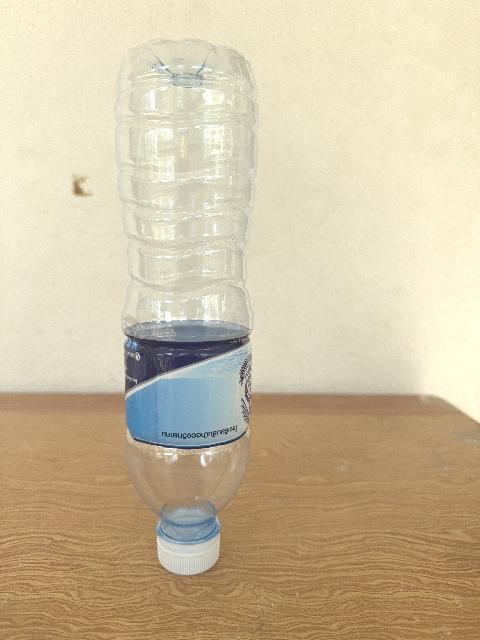bottle: (116, 40, 257, 574)
